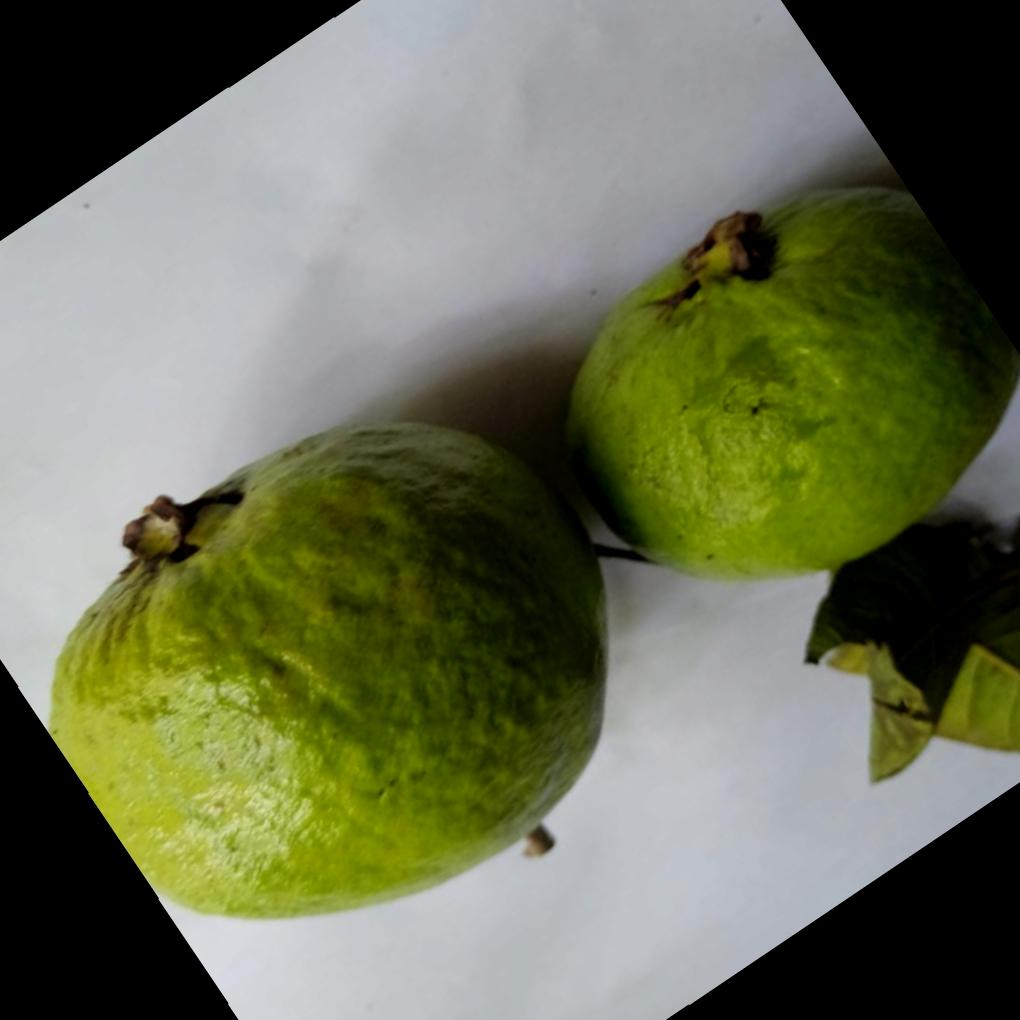FreshGuava: (47, 180, 1020, 921)
